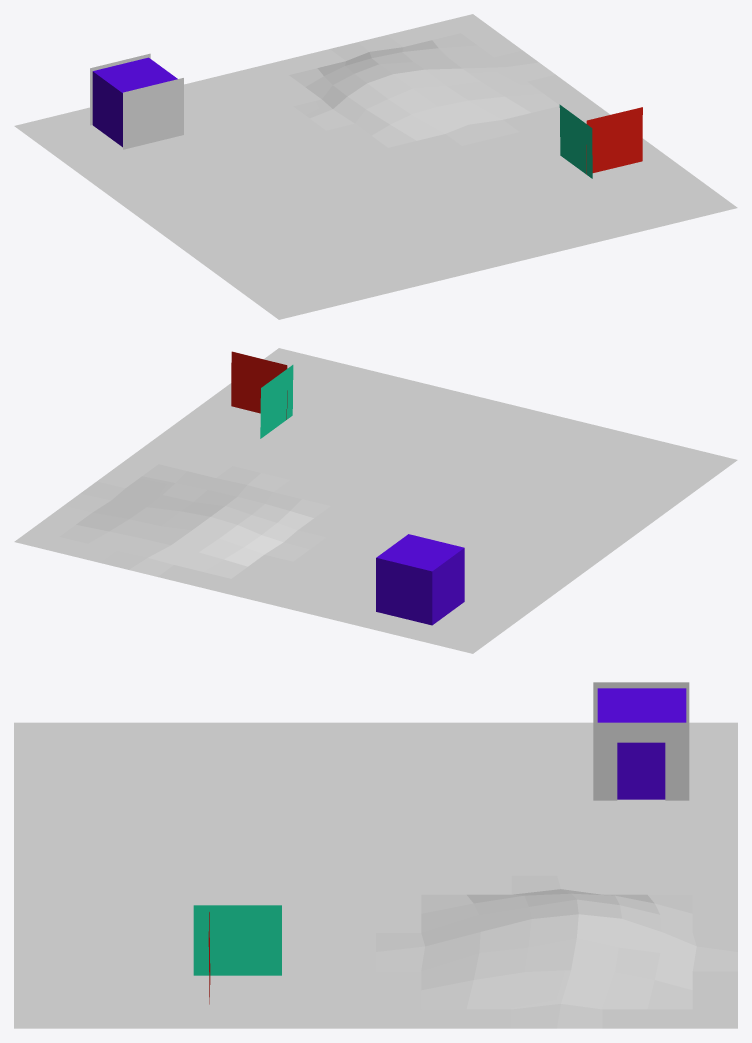
The model's file is level2.glb.
The picture shows the model from 3 angles, top to bottom: view 1: azimuth 30°, elevation 25°; view 2: azimuth 150°, elevation 25°; view 3: azimuth 270°, elevation 25°; orthographic projection. The views are drawn at different scales.
Parts seen in each view (by area): view 1: ground, Plane.003, blue_cube, red_plane, green_plane; view 2: ground, blue_cube, red_plane, green_plane; view 3: ground, green_plane, blue_cube, Plane.001, Plane.
Part boxes in pixels (<box>): ground: <box>14,14,737,319</box>; Plane.003: <box>123,78,183,149</box>; blue_cube: <box>92,57,177,147</box>; red_plane: <box>586,107,642,174</box>; green_plane: <box>559,104,592,178</box>; ground: <box>14,348,737,653</box>; blue_cube: <box>376,534,464,625</box>; red_plane: <box>231,351,287,419</box>; green_plane: <box>260,365,293,438</box>; ground: <box>14,722,737,1028</box>; green_plane: <box>193,905,281,975</box>; blue_cube: <box>597,688,686,799</box>; Plane.001: <box>593,722,689,800</box>; Plane: <box>593,682,689,722</box>.
Bounding box in the file's own units: 16.36 × 2.21 × 16.36.
